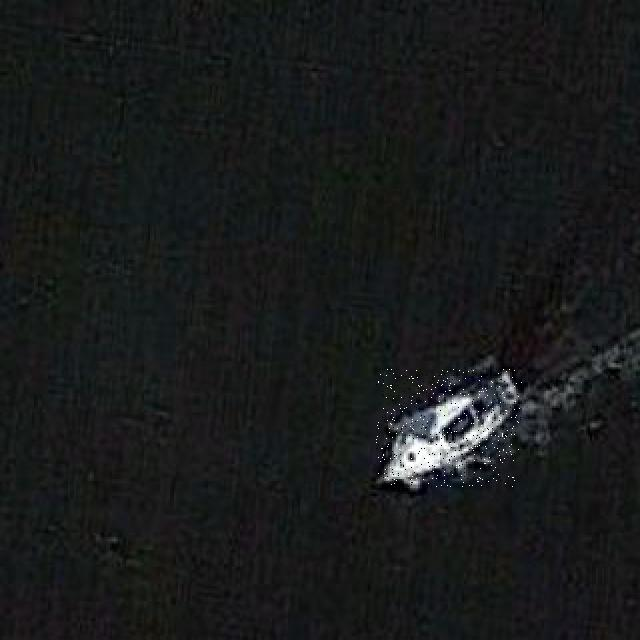boat: (376, 370, 522, 488)
